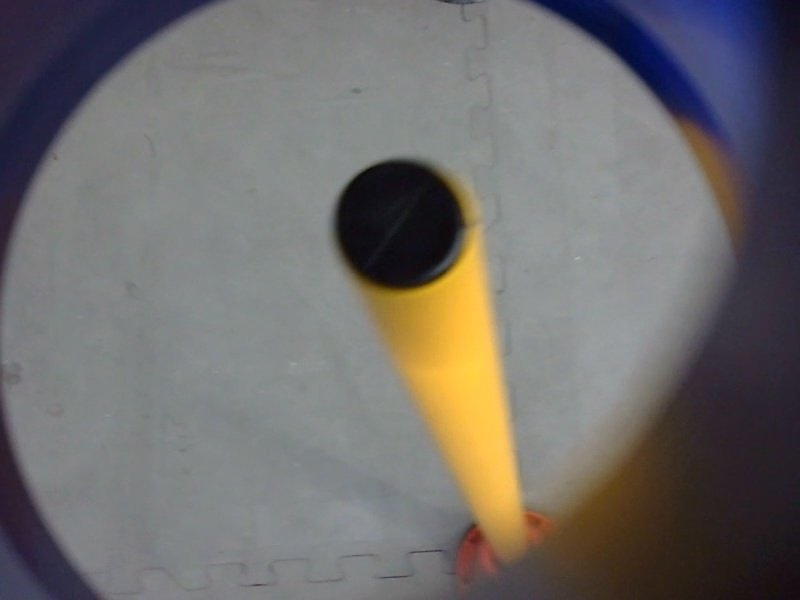tip: (319, 143, 492, 309)
